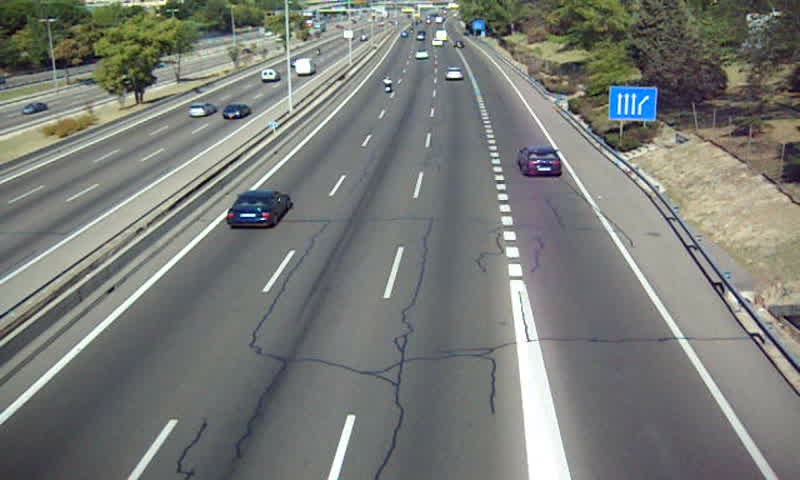car: (227, 190, 291, 228), (517, 145, 563, 178), (444, 66, 465, 81)
motorcycle: (381, 76, 393, 96)
